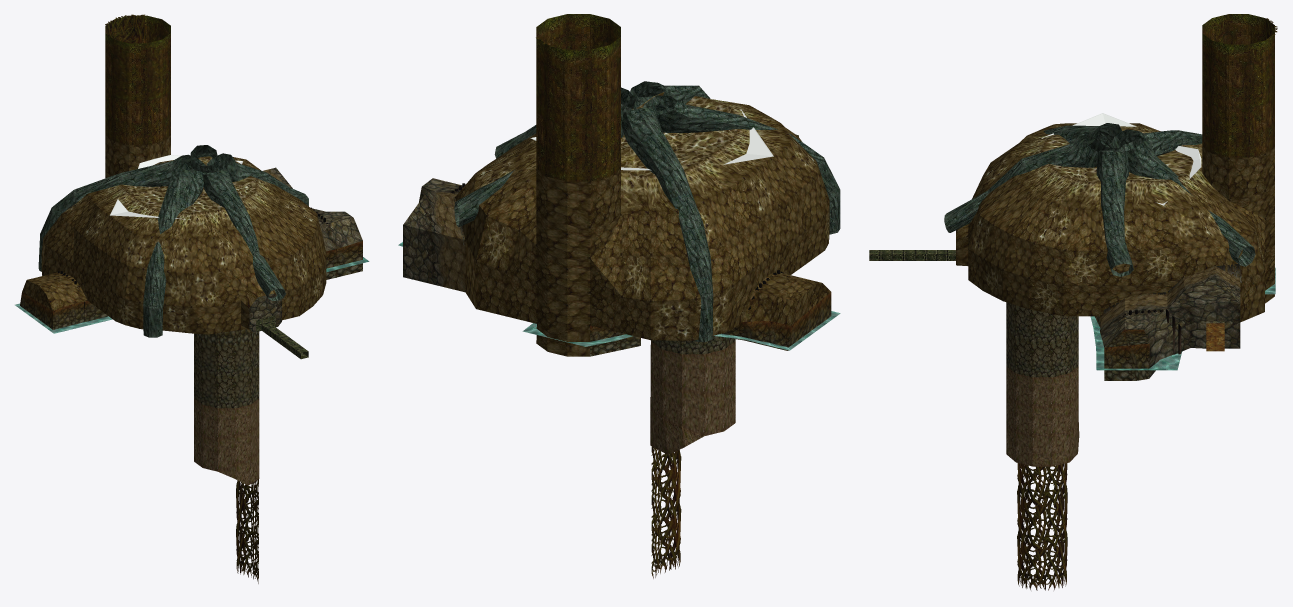
The picture shows the model from 3 angles, left to right: view 1: azimuth 30°, elevation 25°; view 2: azimuth 150°, elevation 25°; view 3: azimuth 270°, elevation 25°; orthographic projection. The views are drawn at different scales.
Parts seen in each view (by area): view 1: inside_the_deku_tree_03.dmx.011, inside_the_deku_tree_03.dmx.004, inside_the_deku_tree_03.dmx.003, inside_the_deku_tree_03.dmx.013, inside_the_deku_tree_03.dmx, inside_the_deku_tree_03.dmx.005, GROUND1, VINES, inside_the_deku_tree_03.dmx.007, inside_the_deku_tree_03.dmx.009, WATER, inside_the_deku_tree_03.dmx.001; view 2: inside_the_deku_tree_03.dmx.011, inside_the_deku_tree_03.dmx.003, inside_the_deku_tree_03.dmx.004, inside_the_deku_tree_03.dmx.013, inside_the_deku_tree_03.dmx, inside_the_deku_tree_03.dmx.007, VINES, GROUND1, inside_the_deku_tree_03.dmx.009, inside_the_deku_tree_03.dmx.005, WATER, inside_the_deku_tree_03.dmx.001; view 3: inside_the_deku_tree_03.dmx.011, inside_the_deku_tree_03.dmx.004, inside_the_deku_tree_03.dmx.003, inside_the_deku_tree_03.dmx.013, inside_the_deku_tree_03.dmx.007, inside_the_deku_tree_03.dmx, VINES, inside_the_deku_tree_03.dmx.005, GROUND1, WATER, inside_the_deku_tree_03.dmx.001.
Part boxes in pixels (x1=…): inside_the_deku_tree_03.dmx.011: x1=35, y1=135, x2=326, y2=334; inside_the_deku_tree_03.dmx.004: x1=38, y1=145, x2=308, y2=337; inside_the_deku_tree_03.dmx.003: x1=105, y1=15, x2=170, y2=145; inside_the_deku_tree_03.dmx.013: x1=88, y1=156, x2=281, y2=239; inside_the_deku_tree_03.dmx: x1=194, y1=398, x2=259, y2=485; inside_the_deku_tree_03.dmx.005: x1=194, y1=335, x2=259, y2=408; GROUND1: x1=20, y1=206, x2=362, y2=359; VINES: x1=105, y1=14, x2=258, y2=583; inside_the_deku_tree_03.dmx.007: x1=249, y1=167, x2=362, y2=332; inside_the_deku_tree_03.dmx.009: x1=22, y1=272, x2=87, y2=310; WATER: x1=15, y1=257, x2=369, y2=333; inside_the_deku_tree_03.dmx.001: x1=110, y1=155, x2=242, y2=219; inside_the_deku_tree_03.dmx.011: x1=455, y1=124, x2=829, y2=356; inside_the_deku_tree_03.dmx.003: x1=536, y1=14, x2=620, y2=181; inside_the_deku_tree_03.dmx.004: x1=454, y1=81, x2=840, y2=342; inside_the_deku_tree_03.dmx.013: x1=516, y1=92, x2=792, y2=214; inside_the_deku_tree_03.dmx: x1=650, y1=341, x2=735, y2=454; inside_the_deku_tree_03.dmx.007: x1=403, y1=178, x2=465, y2=292; VINES: x1=536, y1=37, x2=681, y2=578; GROUND1: x1=451, y1=134, x2=831, y2=356; inside_the_deku_tree_03.dmx.009: x1=742, y1=272, x2=830, y2=325; inside_the_deku_tree_03.dmx.005: x1=651, y1=336, x2=735, y2=354; WATER: x1=398, y1=242, x2=840, y2=350; inside_the_deku_tree_03.dmx.001: x1=530, y1=109, x2=773, y2=170; inside_the_deku_tree_03.dmx.011: x1=956, y1=143, x2=1274, y2=322; inside_the_deku_tree_03.dmx.004: x1=944, y1=123, x2=1255, y2=276; inside_the_deku_tree_03.dmx.003: x1=1202, y1=14, x2=1274, y2=157; inside_the_deku_tree_03.dmx.013: x1=1008, y1=123, x2=1228, y2=211; inside_the_deku_tree_03.dmx.007: x1=1100, y1=266, x2=1240, y2=378; inside_the_deku_tree_03.dmx: x1=1006, y1=366, x2=1079, y2=466; VINES: x1=1017, y1=18, x2=1277, y2=590; inside_the_deku_tree_03.dmx.005: x1=1006, y1=302, x2=1078, y2=377; GROUND1: x1=869, y1=250, x2=1265, y2=380; WATER: x1=1090, y1=267, x2=1275, y2=370; inside_the_deku_tree_03.dmx.001: x1=1041, y1=113, x2=1201, y2=205.
Bounding box in the file's own units: 28.57 × 43.5 × 29.38.
